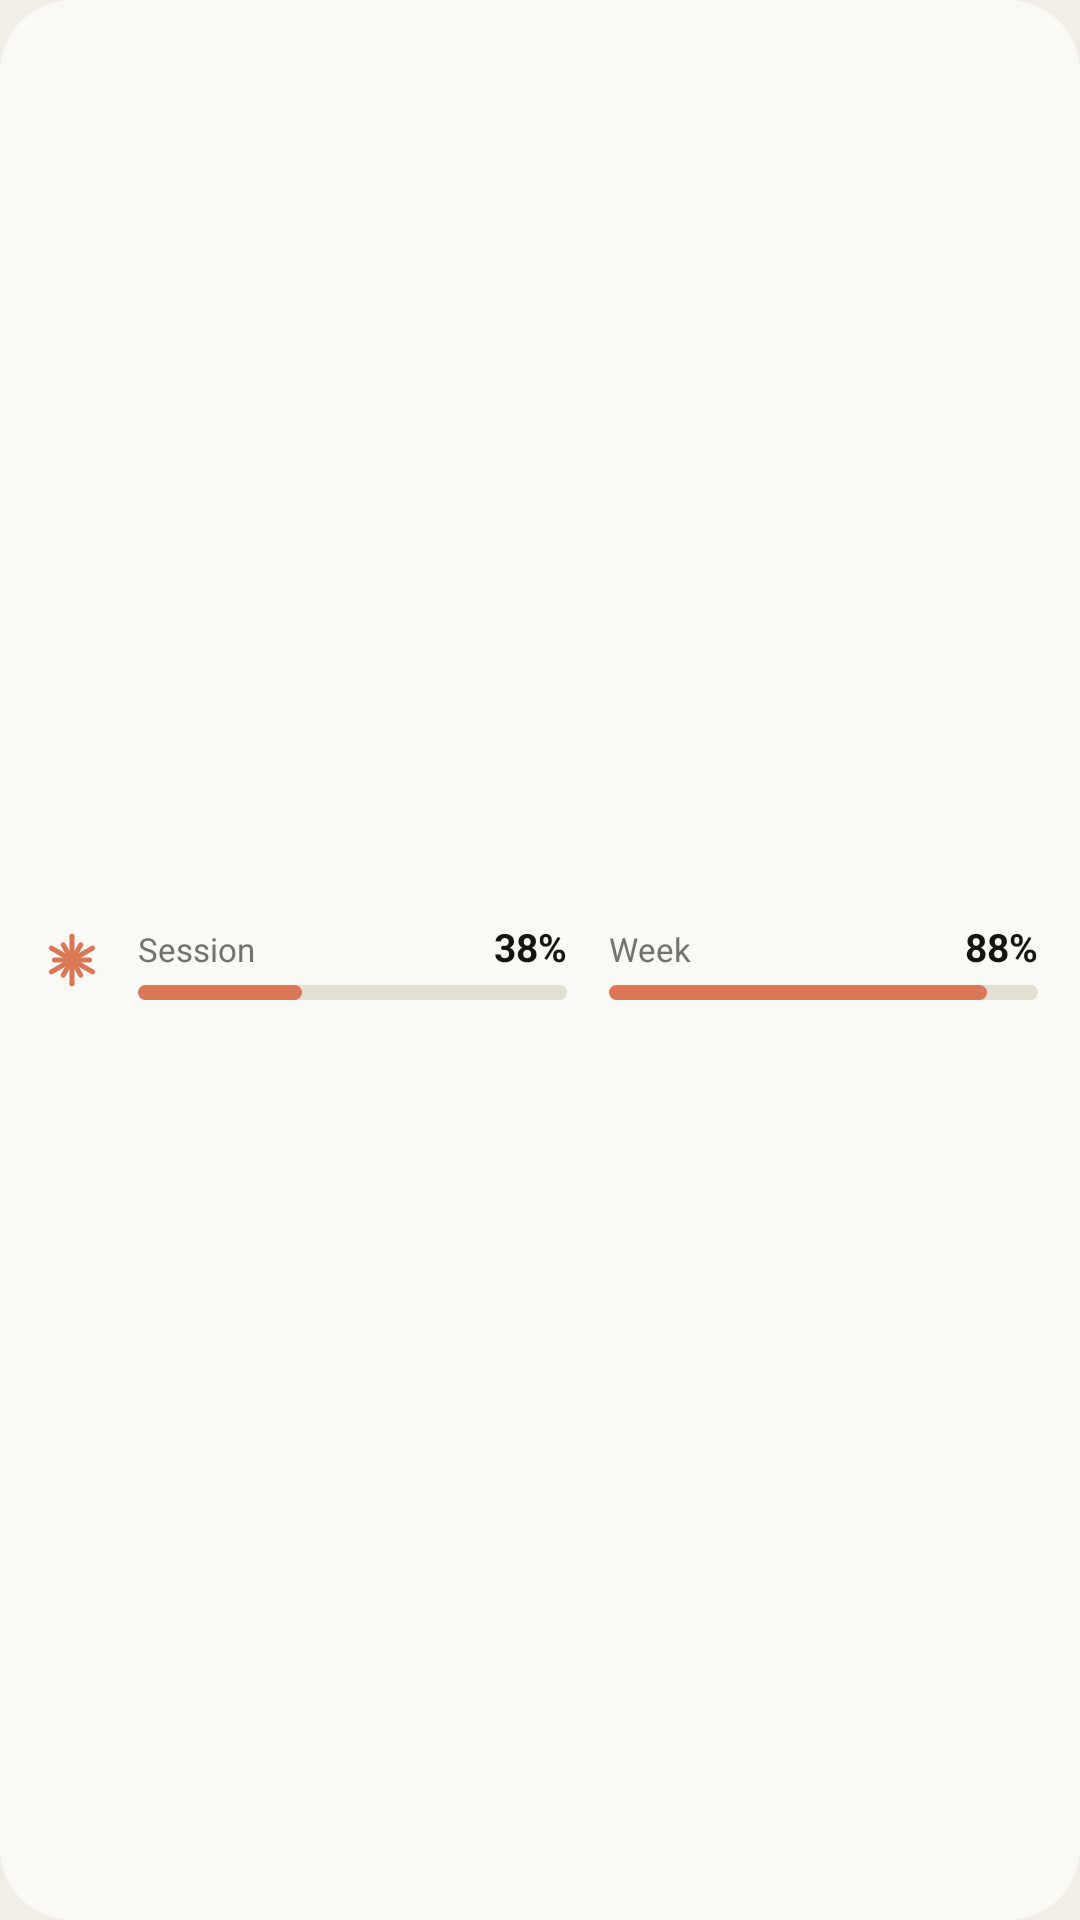

Where icons sit on this 1080px×1920px app screen, as box(x1, y1, x2, y2):
spark: box(48, 933, 96, 987)
